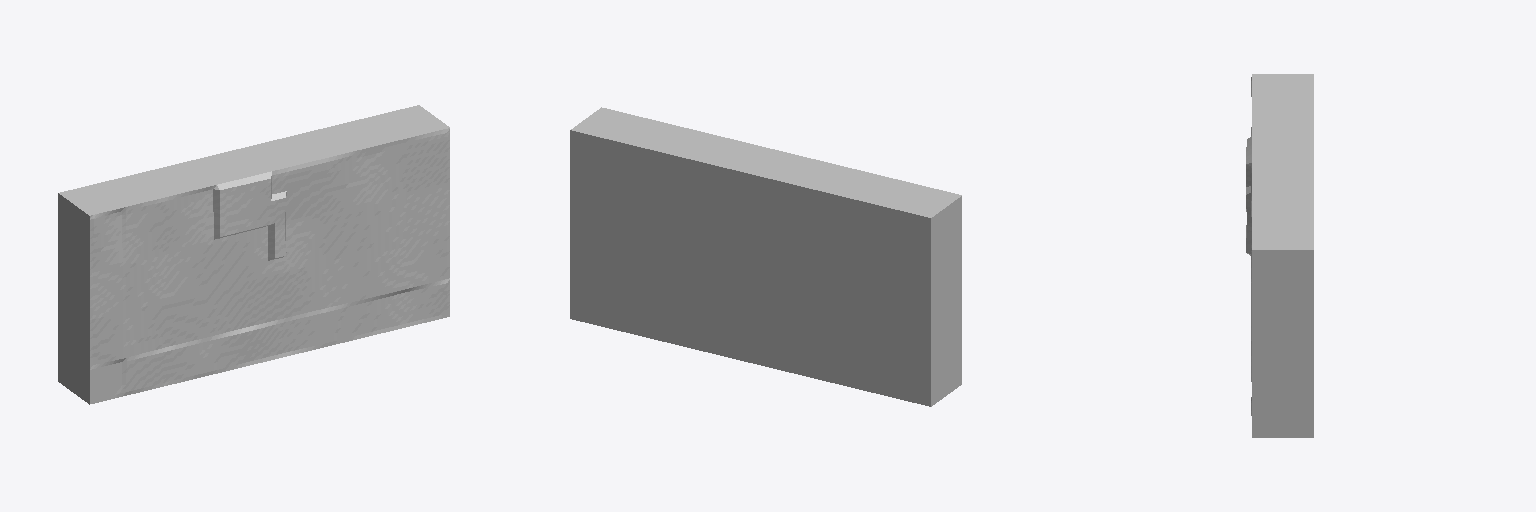
File: rectangular_prism_bumps_1_6.obj
3 views of the same model, side by side, from view 1: azimuth 30°, elevation 25°; view 2: azimuth 150°, elevation 25°; view 3: azimuth 270°, elevation 25° (orthographic).
Bounding box in the file's own units: 10 × 5 × 1.66.